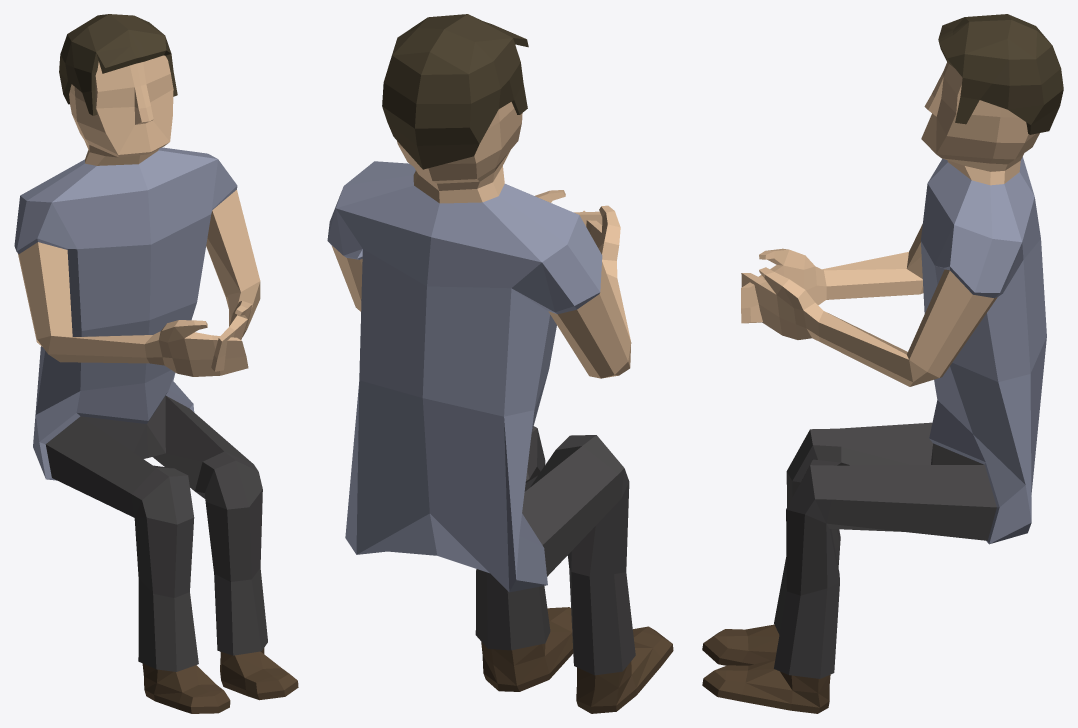
File: Male_Crowd_SittingClapping.glb
3 renders of one model, left to right at view 1: azimuth 30°, elevation 25°; view 2: azimuth 150°, elevation 25°; view 3: azimuth 270°, elevation 25°, orthographic. The views are drawn at different scales.
Parts seen in each view (by area): view 1: Male_Crowd_SittingClapping; view 2: Male_Crowd_SittingClapping; view 3: Male_Crowd_SittingClapping.
Part boxes in pixels (x1=…): Male_Crowd_SittingClapping: x1=14, y1=14, x2=298, y2=713; Male_Crowd_SittingClapping: x1=327, y1=14, x2=673, y2=713; Male_Crowd_SittingClapping: x1=702, y1=14, x2=1063, y2=713.
Size of the model in its own units: 0.5735 by 1.51 by 0.7407.
